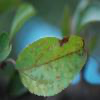Apple Scab Leaf: (15, 32, 87, 99)
